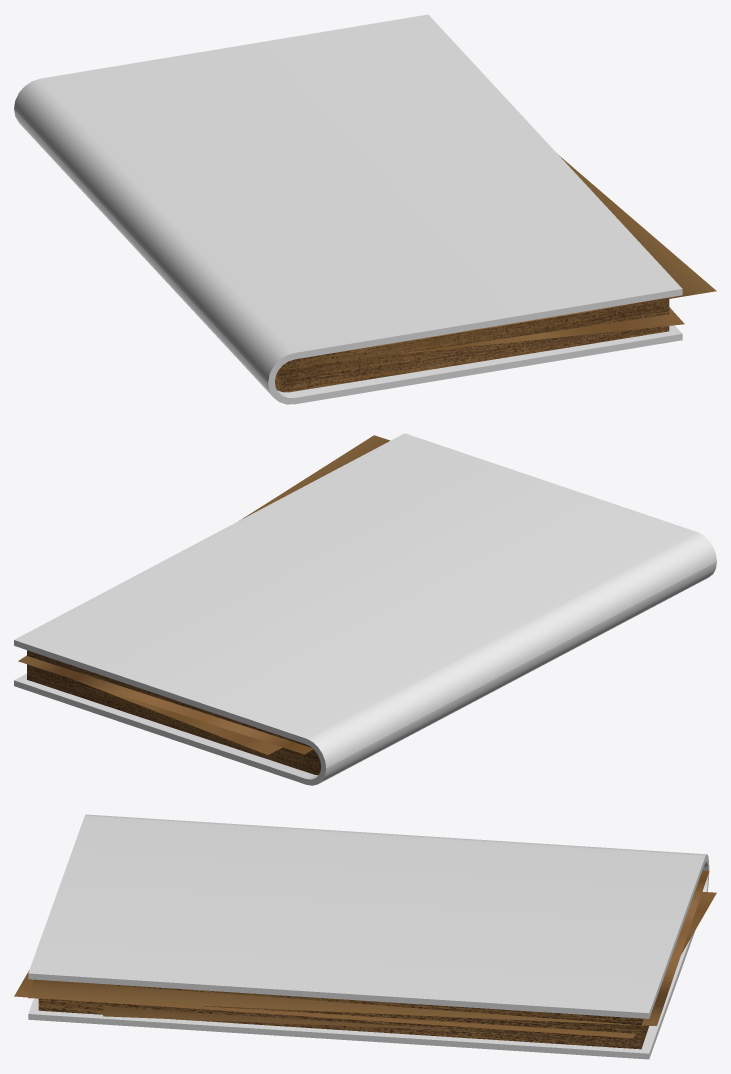
Rendered from bookred.fbx.
3 renders of one model, top to bottom at view 1: azimuth 30°, elevation 25°; view 2: azimuth 150°, elevation 25°; view 3: azimuth 270°, elevation 25°, orthographic. The views are drawn at different scales.
Parts seen in each view (by area): view 1: Cube; view 2: Cube; view 3: Cube.
Boxes of the visible parts, x1=… form: Cube: x1=14, y1=14, x2=716, y2=404; Cube: x1=14, y1=433, x2=716, y2=785; Cube: x1=14, y1=814, x2=716, y2=1059.
Bounding box in the file's own units: 631 × 440 × 45.84.
